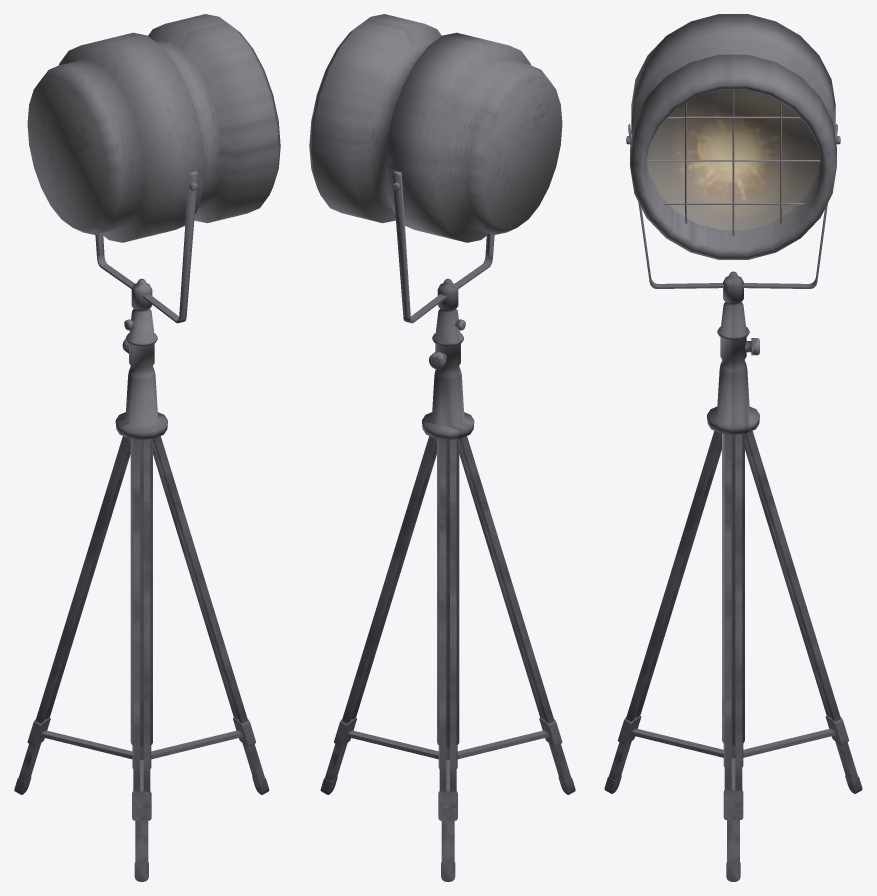
Rendered from Spotlight.fbx.
3 renders of one model, left to right at view 1: azimuth 30°, elevation 25°; view 2: azimuth 150°, elevation 25°; view 3: azimuth 270°, elevation 25°, orthographic.
Parts seen in each view (by area): view 1: Cylinder; view 2: Cylinder; view 3: Cylinder.
Boxes of the visible parts, bbox=[...] form: Cylinder: bbox=[14, 14, 280, 881]; Cylinder: bbox=[309, 14, 575, 881]; Cylinder: bbox=[604, 14, 862, 881].
Size of the model in its own units: 34.63 by 129 by 38.28.
